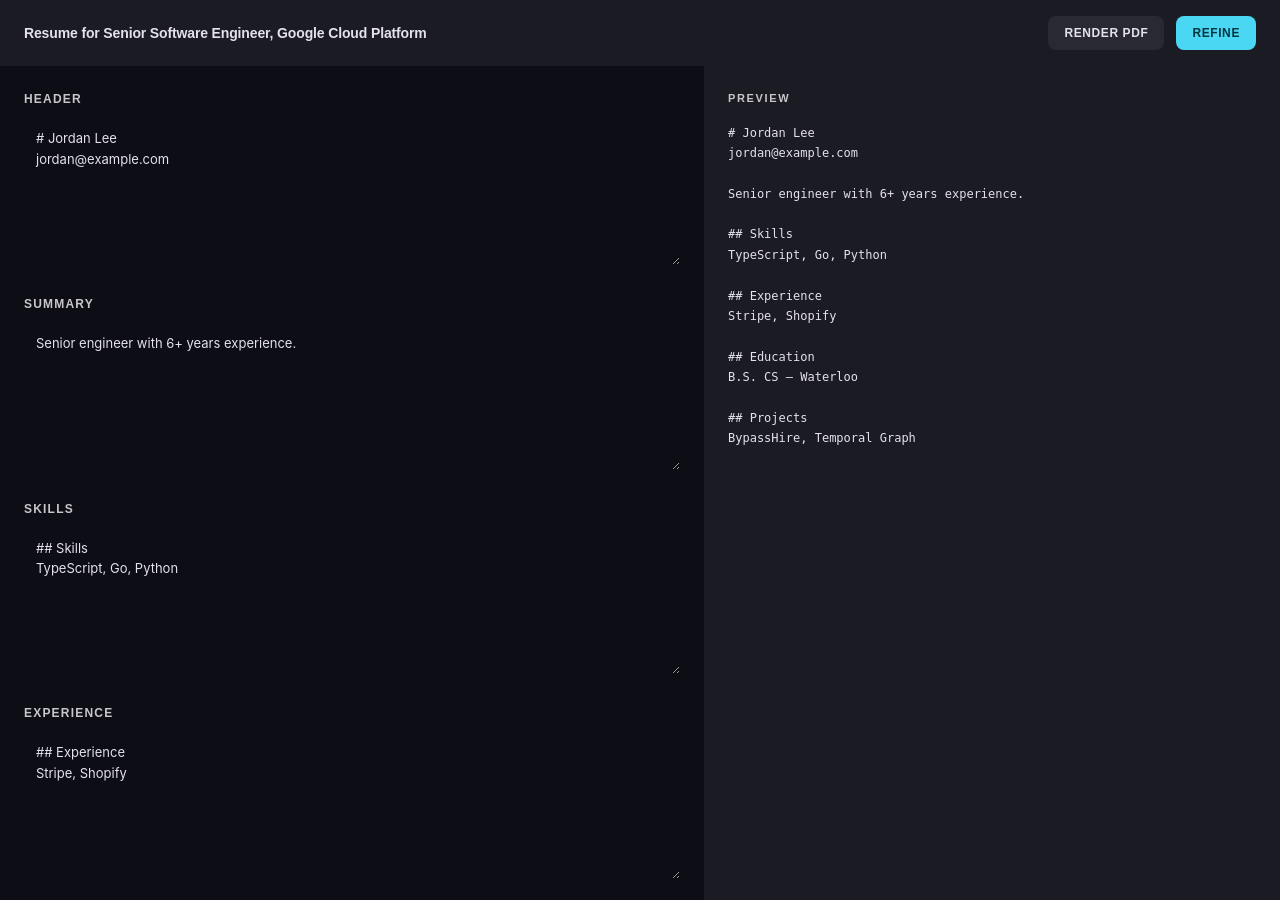
it: TailorPage › on successful refine, updates the section textarea and closes dialog
Check: the text box labelled "Summary" is shown, box x1=24 y1=321 x2=680 y2=470
Click the button "Refine" at (1216, 33), box x1=1176 y1=16 x2=1256 y2=50
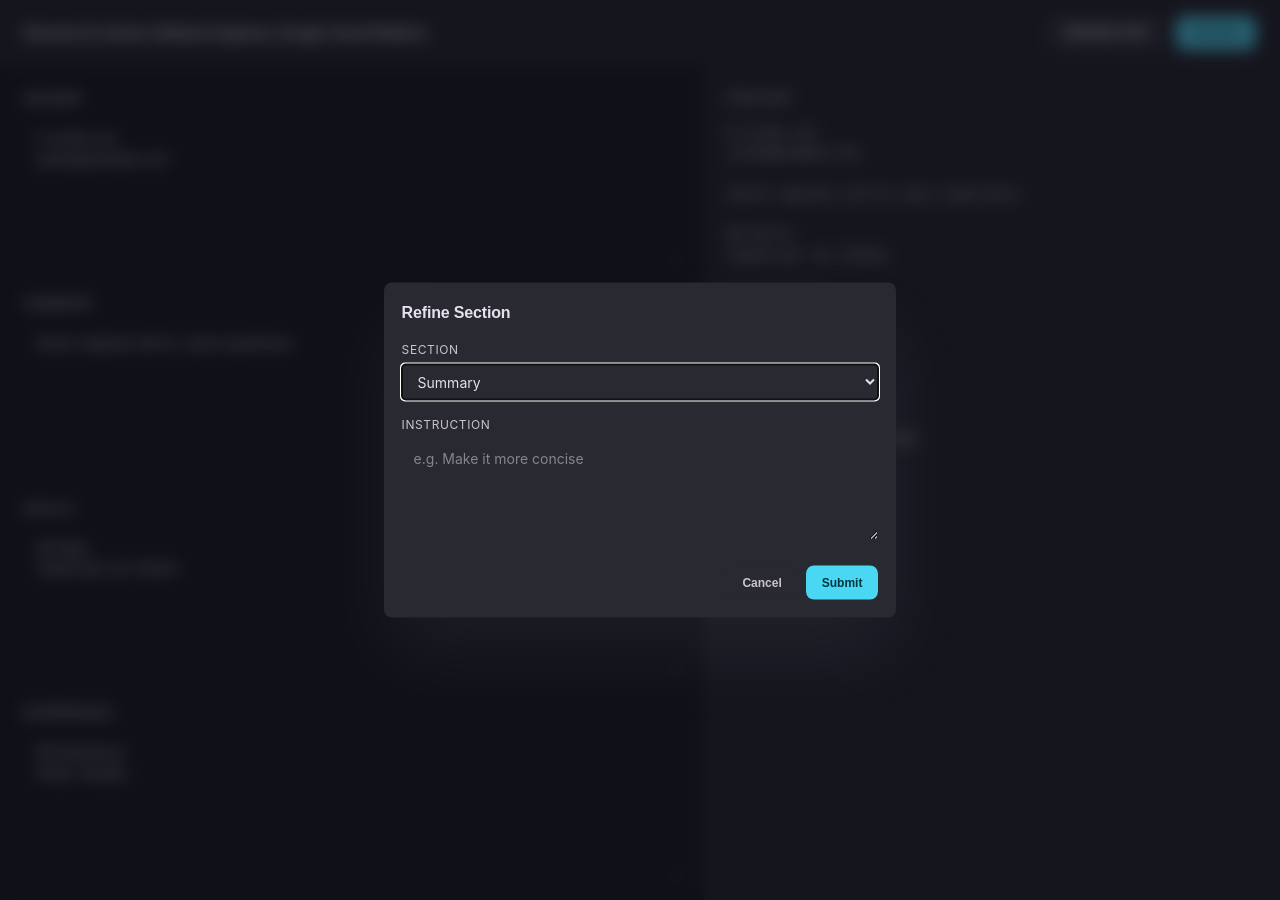
Type "Make it concise" into the text box at (640, 490), box x1=402 y1=440 x2=878 y2=540
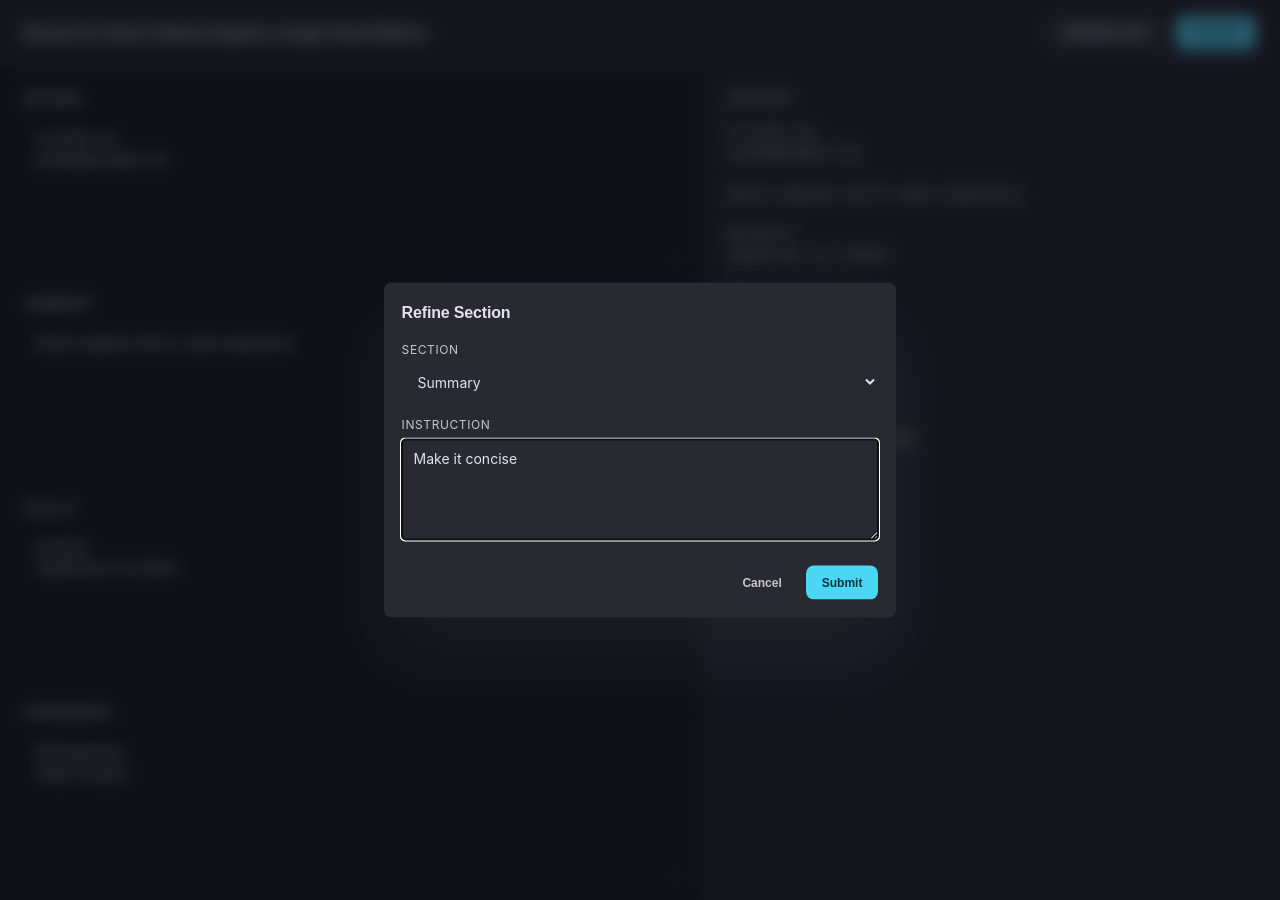
Click the button "Submit" at (842, 583), box x1=806 y1=566 x2=878 y2=600
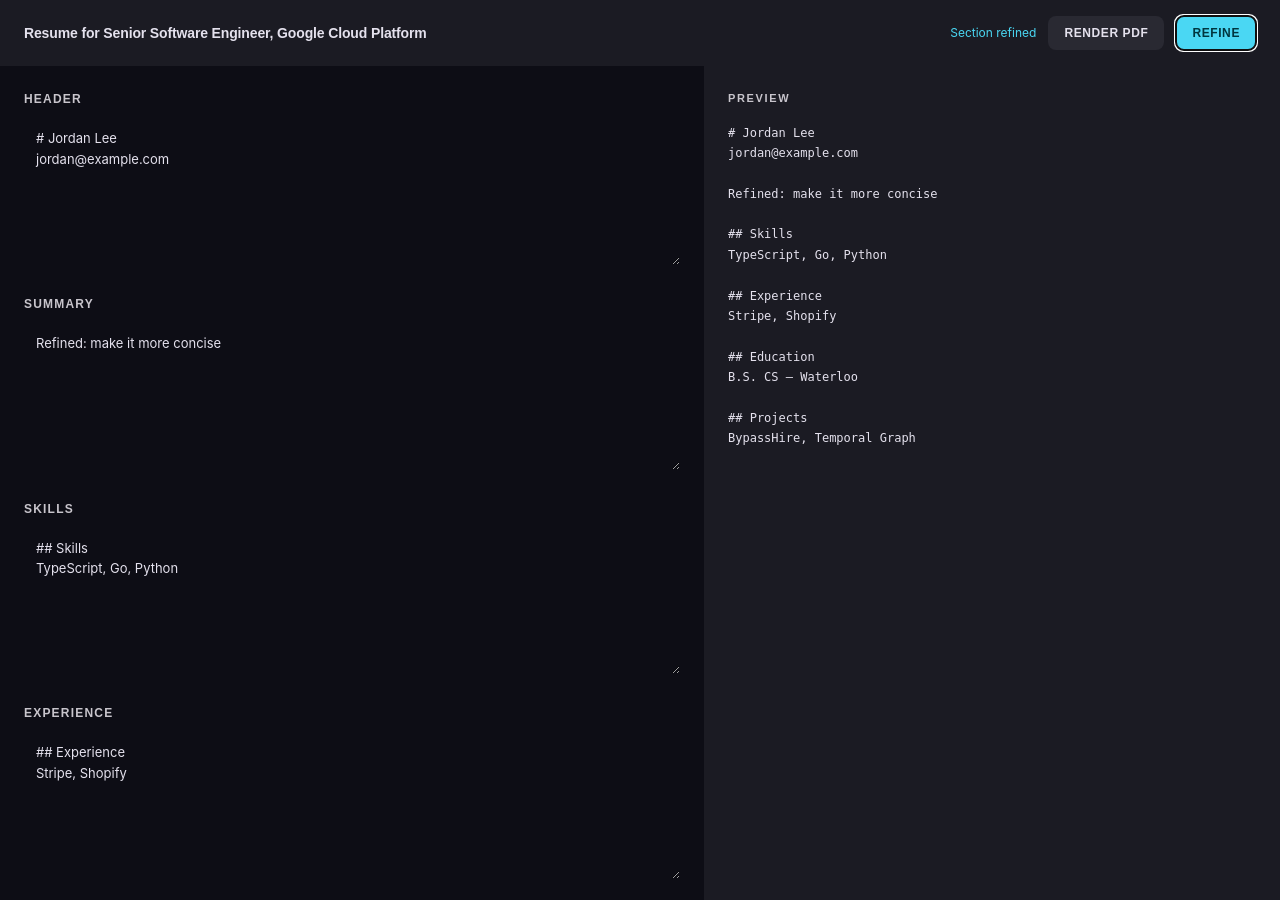
Check: the dialog is gone
Check: the text box labelled "Summary" holds "Refined: make it more concise", box x1=24 y1=321 x2=680 y2=470
